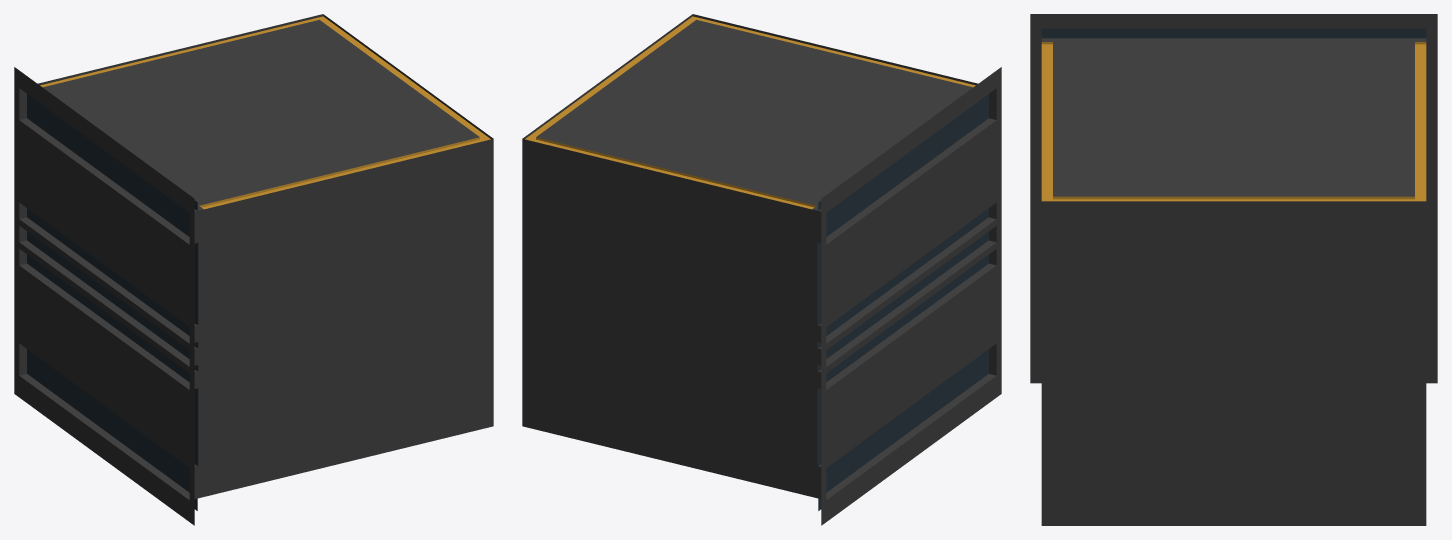
File: Wall_35_A.FBX
3 renders of one model, left to right at view 1: azimuth 30°, elevation 25°; view 2: azimuth 150°, elevation 25°; view 3: azimuth 270°, elevation 25°, orthographic. The views are drawn at different scales.
Parts seen in each view (by area): view 1: Wall_35_A_LOD0; view 2: Wall_35_A_LOD0; view 3: Wall_35_A_LOD0.
Boxes of the visible parts, x1,y1,x2,y2 form: Wall_35_A_LOD0: (14, 14, 493, 525); Wall_35_A_LOD0: (522, 14, 1001, 525); Wall_35_A_LOD0: (1030, 14, 1437, 525).
Size of what is drawn, in the model's own units: 175 by 180 by 180.
